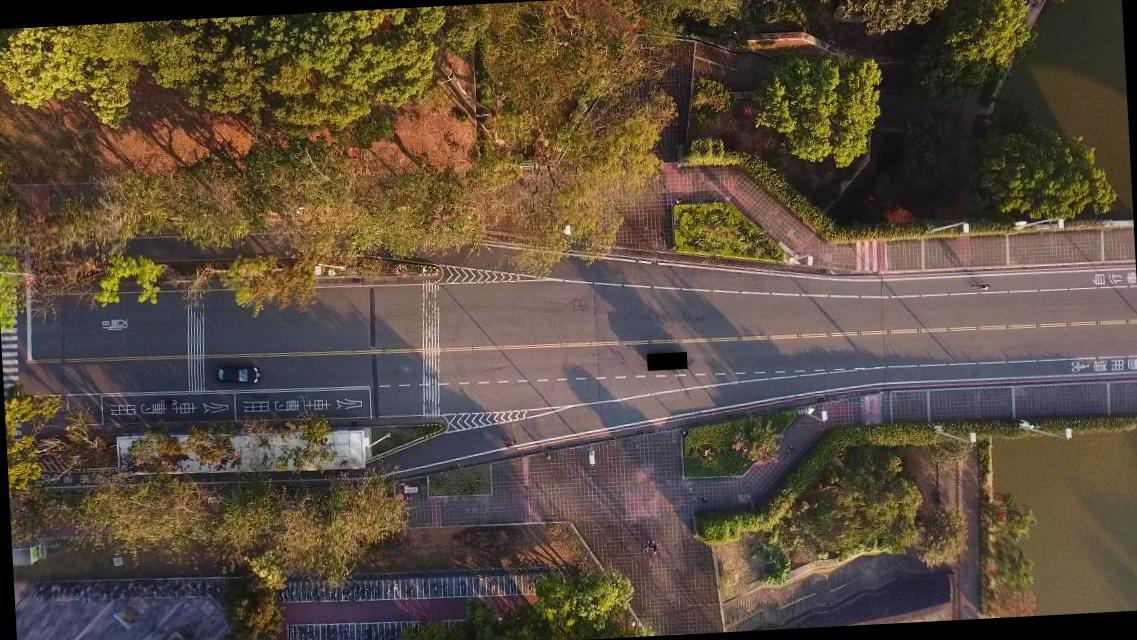vehicle: (212, 364, 260, 386)
